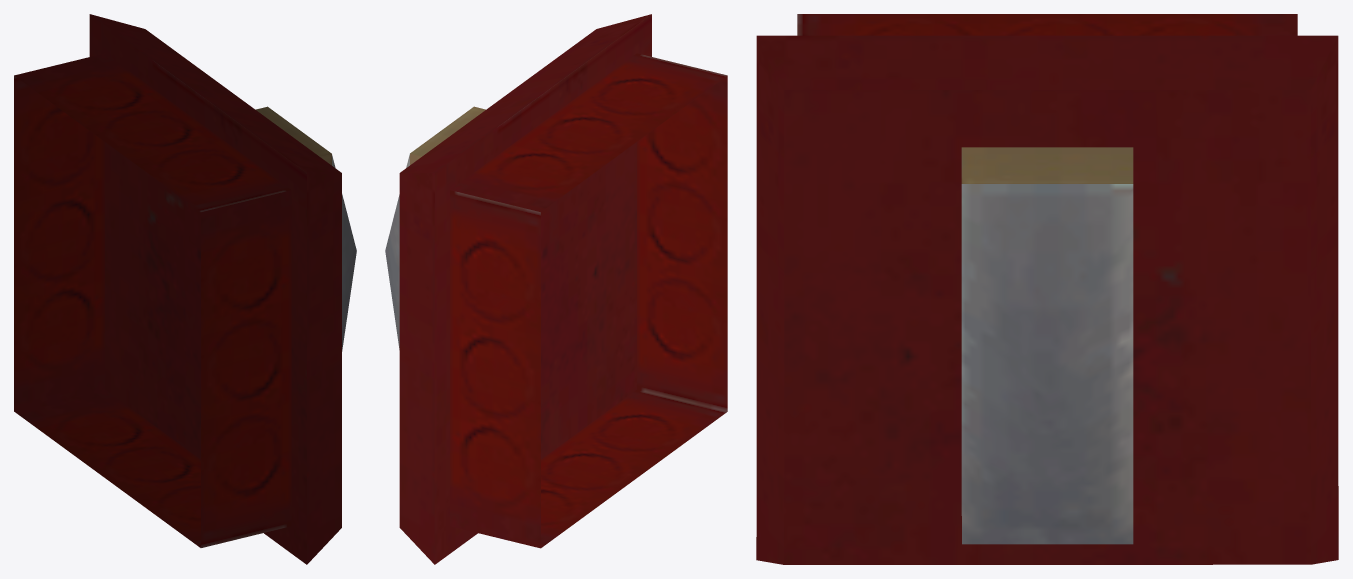
File: com_fire_light_lod2.glb
The picture shows the model from 3 angles, left to right: view 1: azimuth 30°, elevation 25°; view 2: azimuth 150°, elevation 25°; view 3: azimuth 270°, elevation 25°; orthographic projection. The views are drawn at different scales.
Visible parts, largest first — view 1: surf0; view 2: surf0; view 3: surf0.
Part boxes in pixels (x1=…): surf0: x1=14, y1=14, x2=356, y2=564; surf0: x1=385, y1=14, x2=727, y2=564; surf0: x1=756, y1=14, x2=1338, y2=564.
Bounding box in the file's own units: 4.55 × 6.83 × 6.87.
